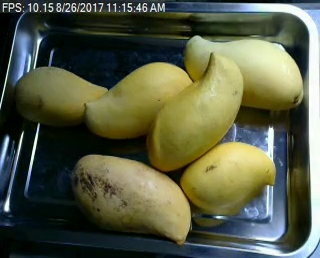Mango: (147, 51, 242, 171), (70, 156, 191, 241), (185, 34, 304, 108), (84, 62, 198, 138), (176, 140, 277, 216), (12, 66, 109, 122)
